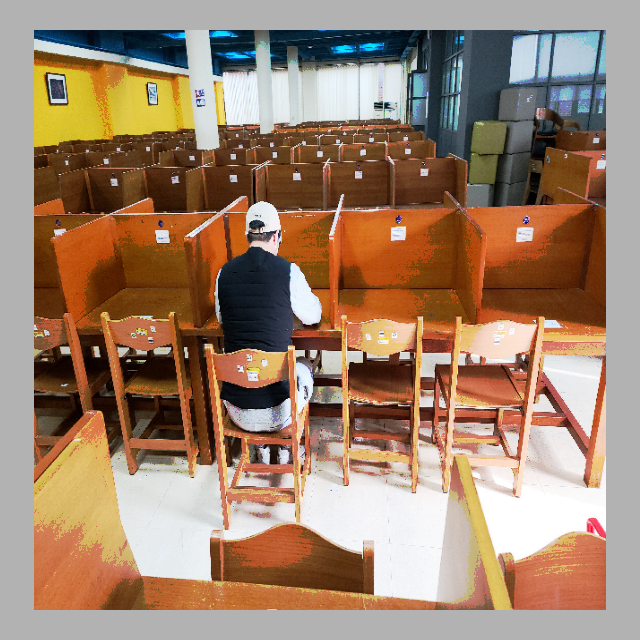empty: (336, 196, 469, 418), (478, 197, 604, 405)
full: (185, 200, 327, 439)
